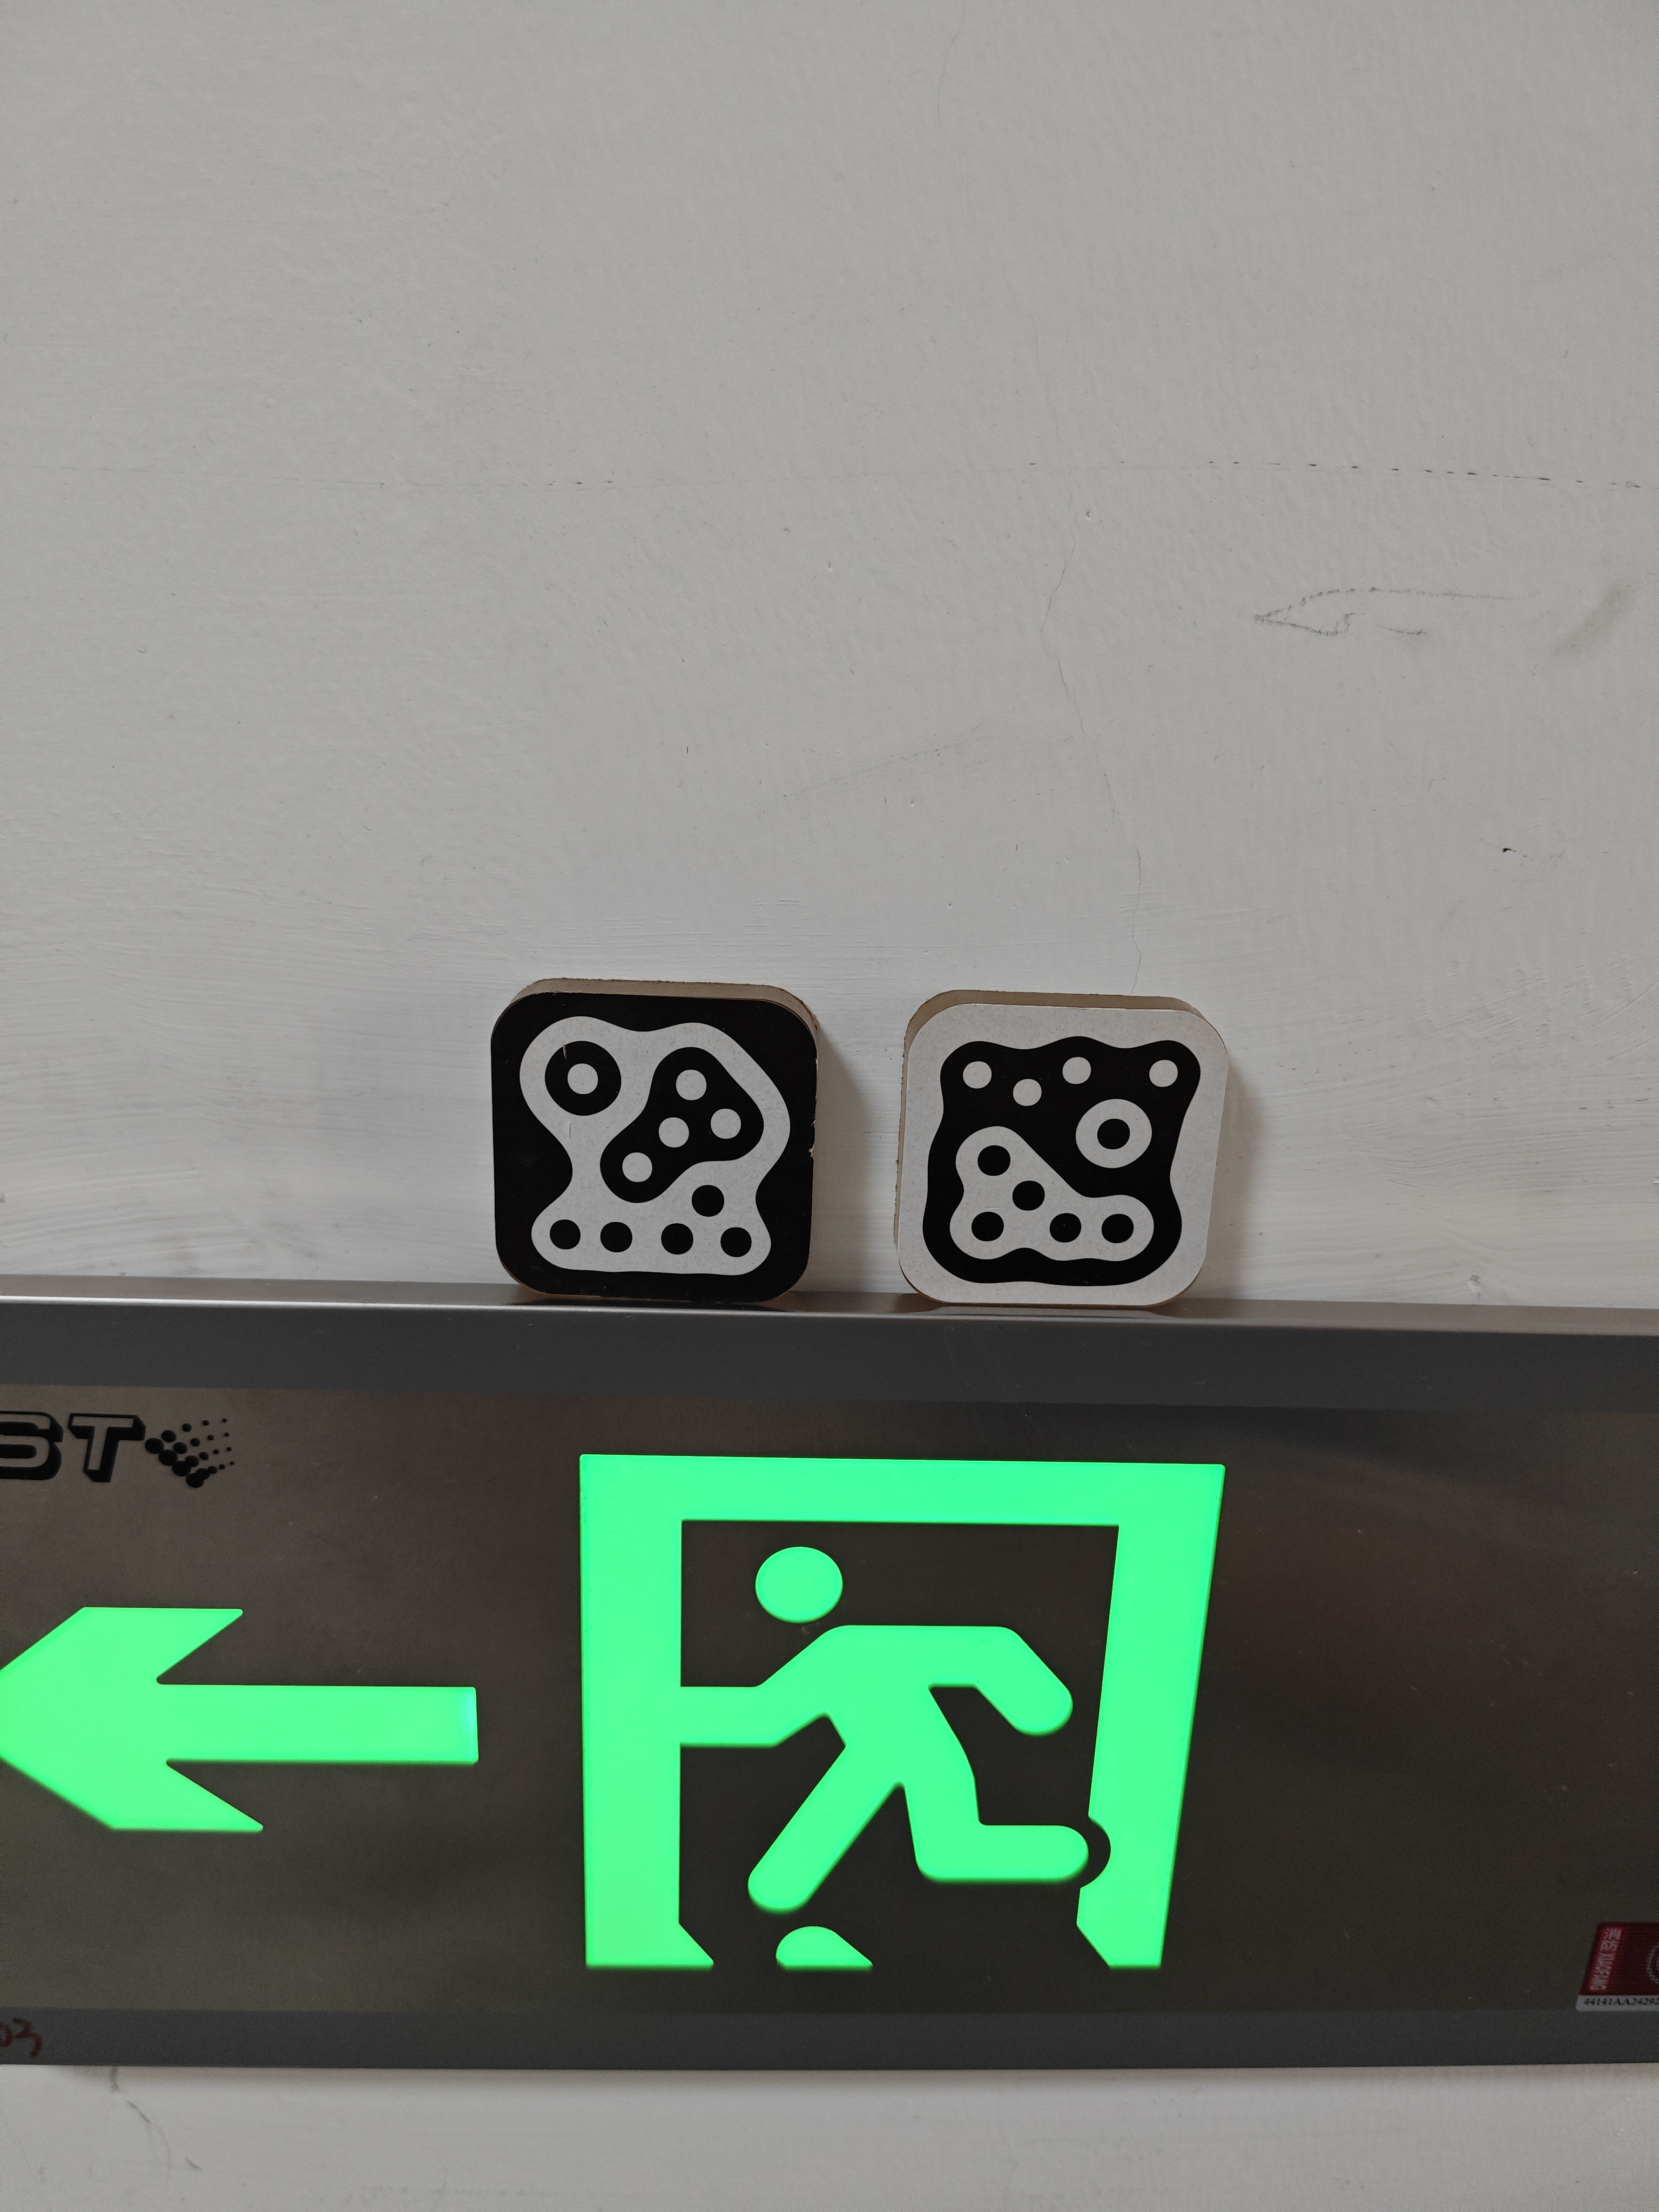mark1: (920, 1036, 1204, 1298)
mark2: (509, 1000, 784, 1284)
